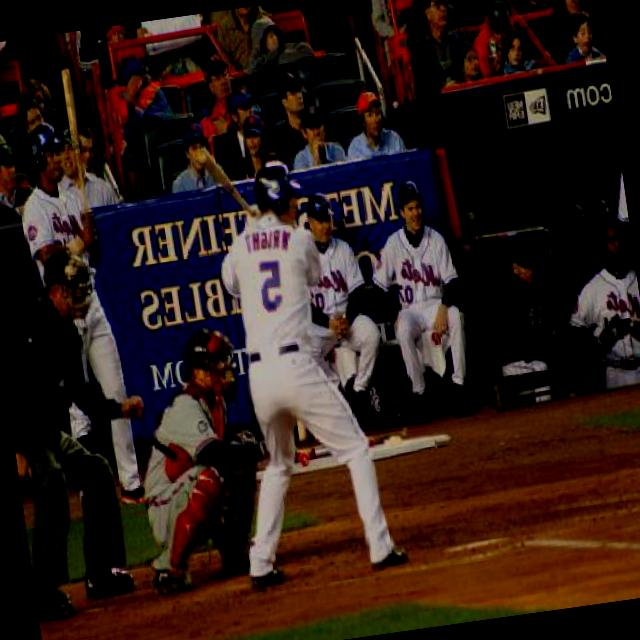Person: (192, 150, 408, 589), (0, 243, 172, 623), (10, 115, 146, 517), (120, 320, 286, 596), (364, 178, 478, 424), (289, 183, 396, 432), (557, 218, 640, 390), (490, 238, 562, 372), (338, 86, 411, 163), (285, 100, 349, 170), (164, 122, 220, 196), (0, 145, 37, 226), (558, 6, 606, 64)
